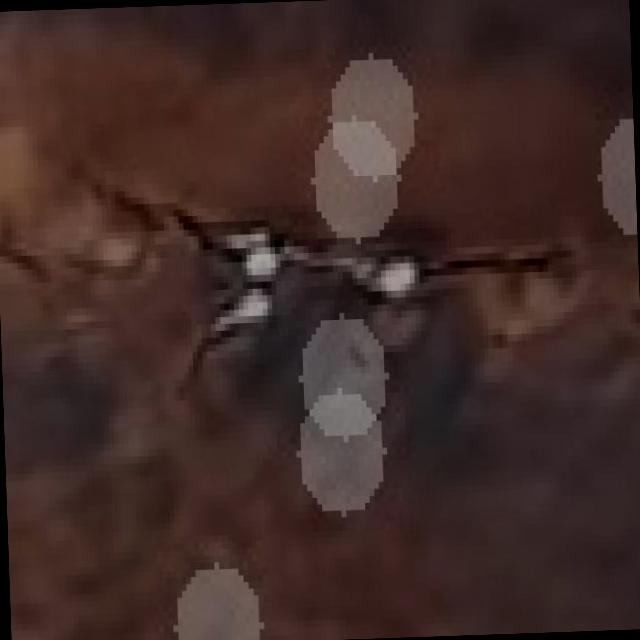crack: (370, 244, 564, 326)
